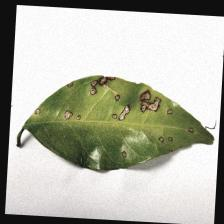canker: (60, 72, 172, 132)
